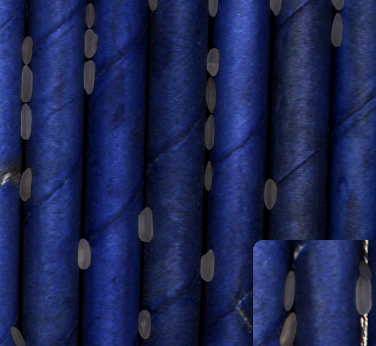broken_grain: (9, 324, 27, 346), (267, 1, 286, 19), (206, 1, 221, 20), (146, 1, 163, 11), (331, 1, 346, 10)
complete_grain: (197, 249, 217, 286), (19, 101, 35, 146), (138, 206, 155, 246), (328, 12, 345, 52), (18, 63, 34, 105), (283, 268, 297, 313), (262, 174, 278, 213), (82, 58, 96, 96), (136, 308, 152, 341), (19, 167, 33, 202), (203, 114, 216, 151), (203, 159, 216, 193), (20, 35, 33, 65), (82, 2, 96, 29)
milky_grain: (278, 312, 303, 346), (354, 275, 373, 318), (73, 237, 92, 273), (204, 45, 221, 79)
yellow_grain: (204, 74, 220, 117), (83, 27, 99, 60)
